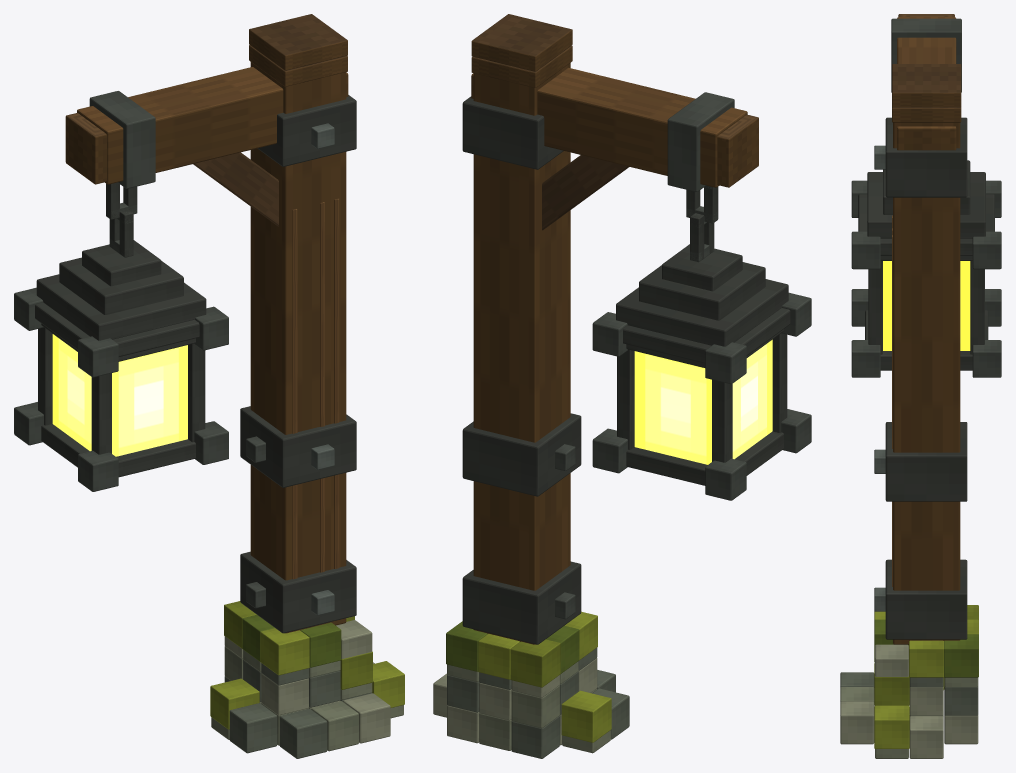
The model's file is SM_HP_Lantern_LOD0.fbx.
The picture shows the model from 3 angles, left to right: view 1: azimuth 30°, elevation 25°; view 2: azimuth 150°, elevation 25°; view 3: azimuth 270°, elevation 25°; orthographic projection. The views are drawn at different scales.
Parts seen in each view (by area): view 1: SM_HP_Lantern_LOD0; view 2: SM_HP_Lantern_LOD0; view 3: SM_HP_Lantern_LOD0.
Boxes of the visible parts, x1=… form: SM_HP_Lantern_LOD0: x1=14, y1=14, x2=404, y2=758; SM_HP_Lantern_LOD0: x1=433, y1=14, x2=811, y2=758; SM_HP_Lantern_LOD0: x1=840, y1=14, x2=1001, y2=758.
Size of the model in its own units: 159 by 72.05 by 318.
1 material, 1 textured.
